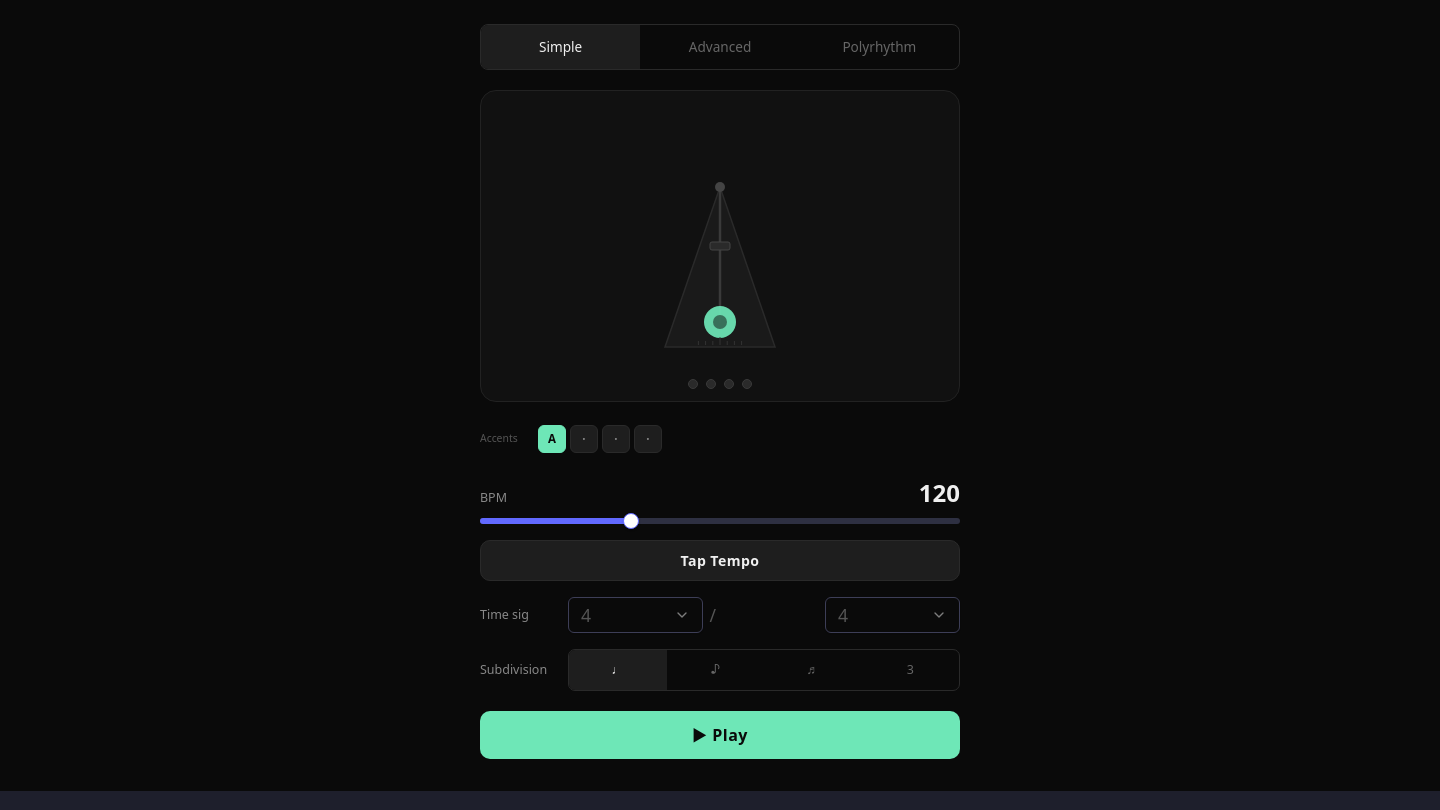
Test case: MetronomePage – switching to Advanced mode › shows at least one measure card after clicking Advanced
Click the button "Advanced": {"x": 720, "y": 47} [640,25,800,69]
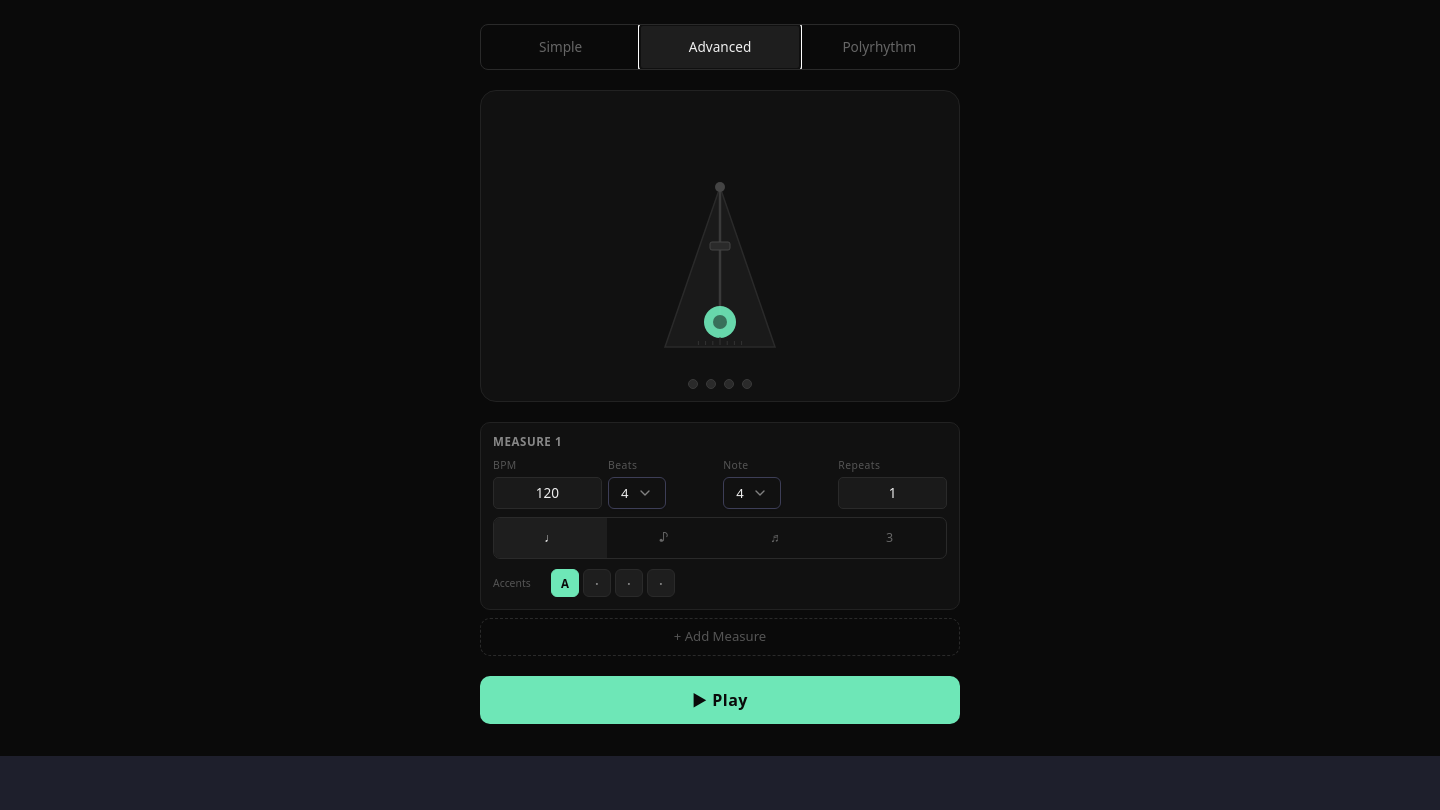
Expected: the text "Measure 1" is shown, [493,433,562,450]
